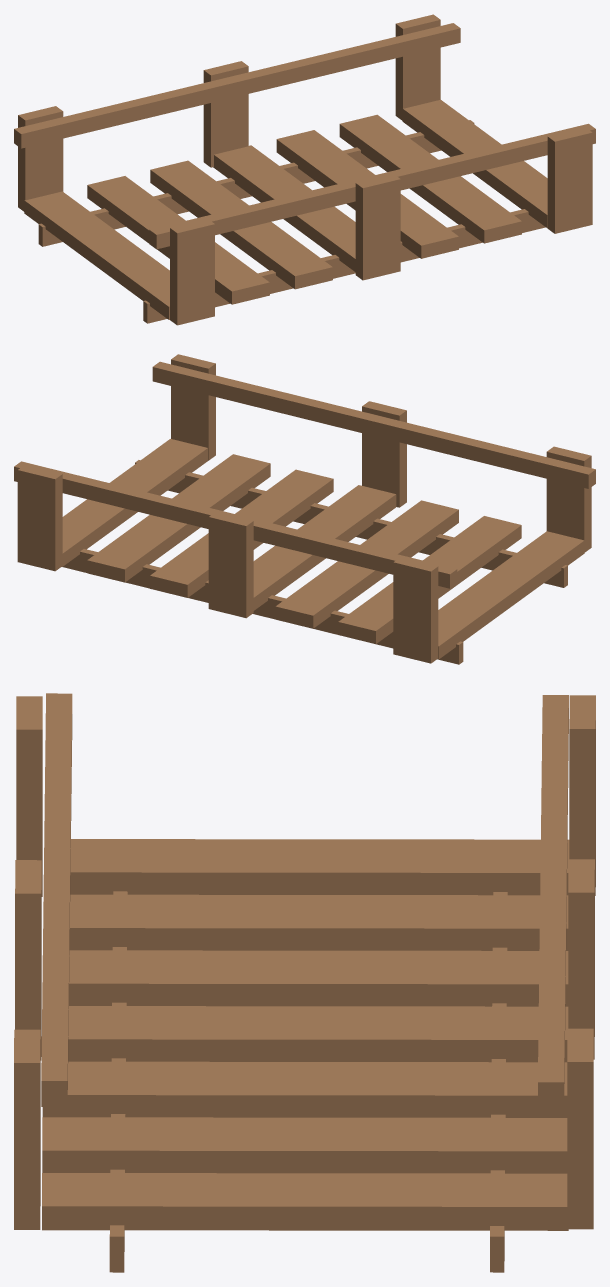
The model's file is bridgeSegment.glb.
3 views of the same model, one above another, from view 1: azimuth 30°, elevation 25°; view 2: azimuth 150°, elevation 25°; view 3: azimuth 270°, elevation 25° (orthographic). The views are drawn at different scales.
Parts seen in each view (by area): view 1: Cube.001, Cube.002, Cube.029, Cube.038, Cube.040, Cube.030, Cube.037, Cube.036, Cube.039, Cube.046, Cube.044, Cube.041 (+5 smaller); view 2: Cube.002, Cube.001, Cube.029, Cube.038, Cube.040, Cube.030, Cube.037, Cube.039, Cube.036, Cube.047, Cube.045, Cube.043 (+5 smaller); view 3: Cube.030, Cube.029, Cube.036, Cube.038, Cube.039, Cube.037, Cube.040, Cube.002, Cube.001, Cube.047, Cube.046, Cube.044 (+5 smaller).
Part boxes in pixels (bbox=[...]): Cube.001: bbox=[14, 23, 460, 148]; Cube.002: bbox=[149, 123, 595, 249]; Cube.029: bbox=[339, 114, 521, 243]; Cube.038: bbox=[150, 160, 332, 289]; Cube.040: bbox=[24, 191, 169, 319]; Cube.030: bbox=[402, 99, 547, 228]; Cube.037: bbox=[213, 145, 355, 271]; Cube.036: bbox=[276, 130, 458, 258]; Cube.039: bbox=[87, 176, 269, 304]; Cube.046: bbox=[547, 127, 592, 233]; Cube.044: bbox=[355, 174, 400, 280]; Cube.041: bbox=[170, 219, 214, 325]; Cube.002: bbox=[152, 361, 595, 488]; Cube.001: bbox=[14, 461, 457, 588]; Cube.029: bbox=[87, 454, 270, 582]; Cube.038: bbox=[275, 500, 458, 628]; Cube.040: bbox=[437, 531, 584, 659]; Cube.030: bbox=[62, 439, 207, 566]; Cube.037: bbox=[253, 485, 396, 610]; Cube.039: bbox=[338, 516, 521, 644]; Cube.036: bbox=[150, 469, 333, 597]; Cube.047: bbox=[17, 465, 62, 571]; Cube.045: bbox=[208, 511, 253, 618]; Cube.043: bbox=[393, 557, 438, 663]; Cube.030: bbox=[42, 1173, 568, 1230]; Cube.029: bbox=[42, 1117, 567, 1173]; Cube.036: bbox=[42, 1061, 567, 1117]; Cube.038: bbox=[69, 950, 568, 1006]; Cube.039: bbox=[69, 894, 568, 950]; Cube.037: bbox=[68, 1006, 568, 1062]; Cube.040: bbox=[70, 839, 569, 895]; Cube.002: bbox=[41, 693, 72, 1106]; Cube.001: bbox=[538, 695, 568, 1108]; Cube.047: bbox=[567, 1028, 593, 1229]; Cube.046: bbox=[14, 1029, 40, 1229]; Cube.044: bbox=[15, 860, 41, 1060].
Size of the model in its own units: 6.99 by 1.67 by 4.42.
